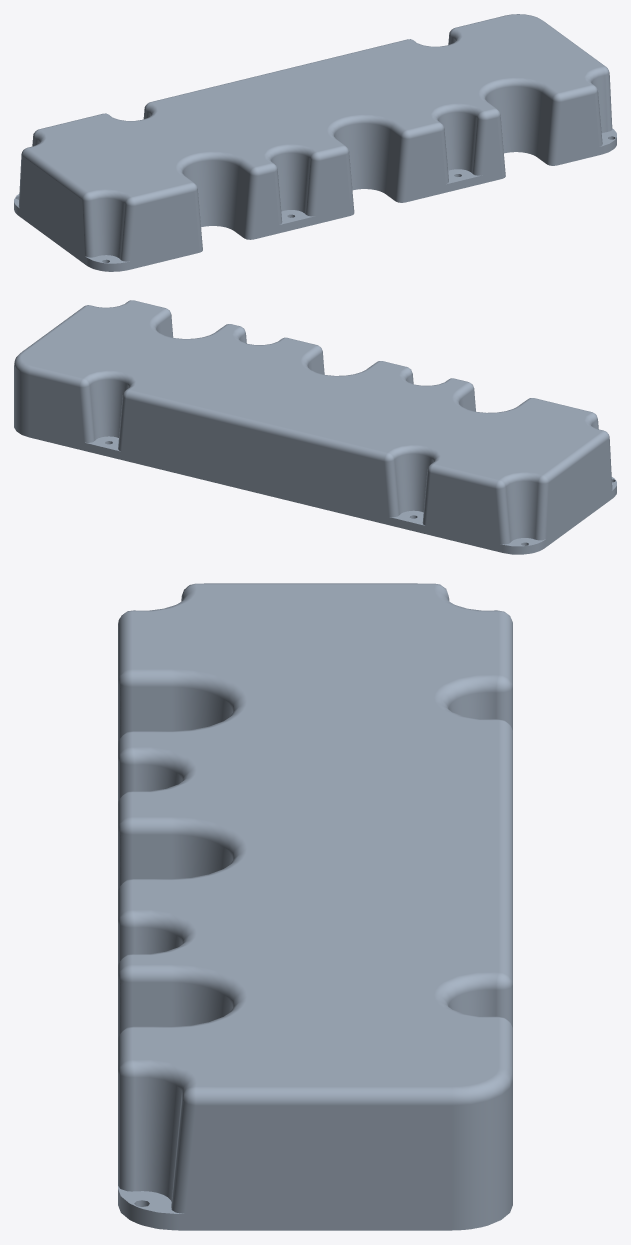
Rendered from valves_cover.obj.
3 renders of one model, top to bottom at view 1: azimuth 30°, elevation 25°; view 2: azimuth 150°, elevation 25°; view 3: azimuth 270°, elevation 25°, orthographic. The views are drawn at different scales.
Parts seen in each view (by area): view 1: 1; view 2: 1; view 3: 1.
Boxes of the visible parts, box(x1,y1,x2,y2) form: 1: box(14, 14, 616, 271); 1: box(14, 300, 616, 554); 1: box(118, 583, 512, 1230).
Bounding box in the file's own units: 508 × 63.5 × 165.
